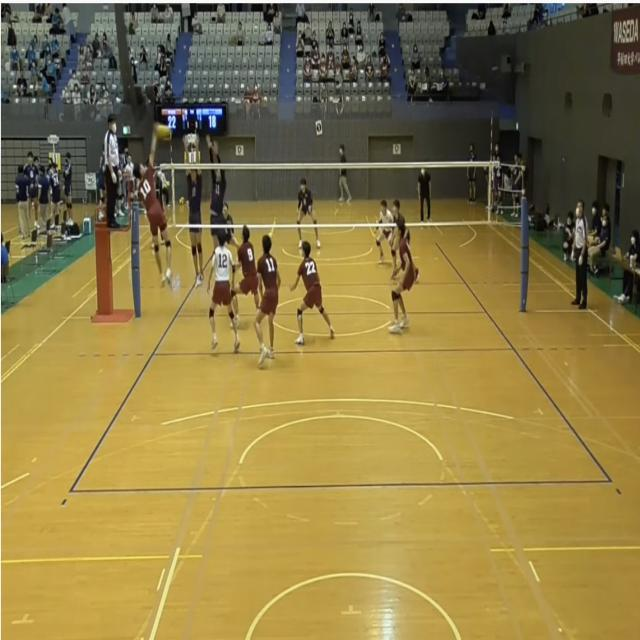spike: (131, 118, 177, 296)
